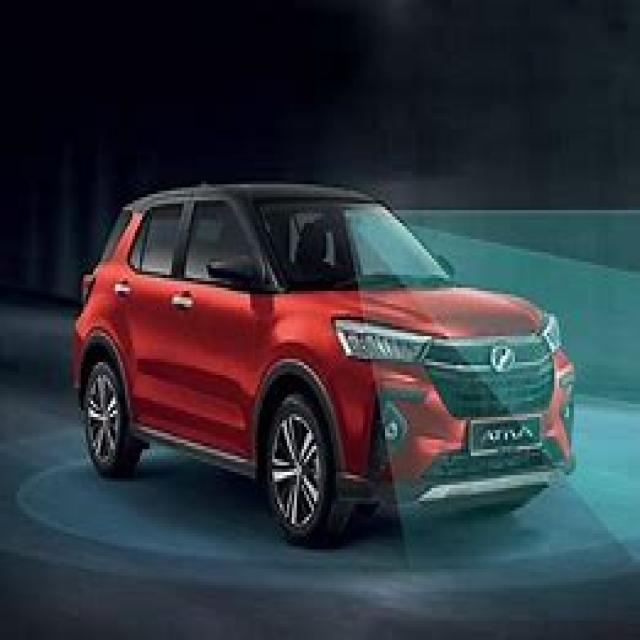PeroduaAtiva: (69, 178, 576, 546)
